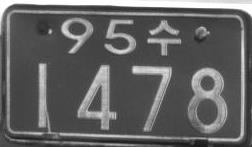1: (24, 62, 62, 127)
4: (76, 63, 116, 130)
5: (103, 18, 136, 55)
7: (131, 64, 172, 132)
8: (186, 66, 228, 135)
9: (60, 17, 94, 55)
수: (146, 19, 181, 56)
